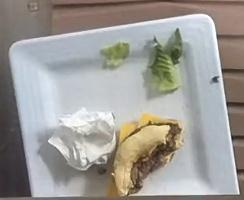burger: (113, 113, 183, 195)
lettuce: (142, 29, 183, 98), (100, 42, 130, 69)
